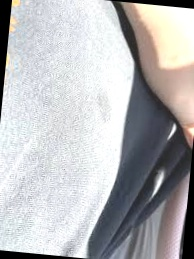oil: (91, 93, 110, 125)
